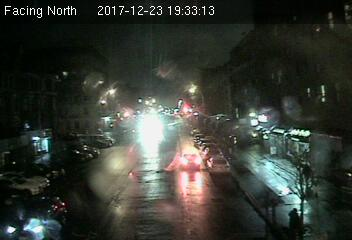car: (206, 156, 230, 175), (180, 152, 202, 170)
